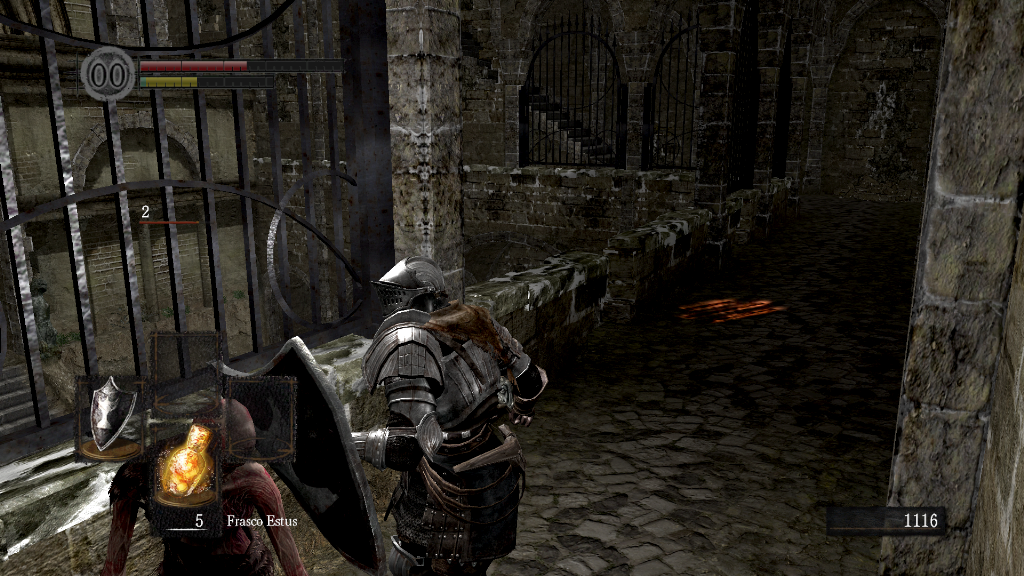health: (138, 58, 343, 71)
humanity: (80, 45, 136, 102)
player: (211, 256, 551, 576)
souls: (825, 506, 945, 536)
stamina: (138, 74, 274, 88)
